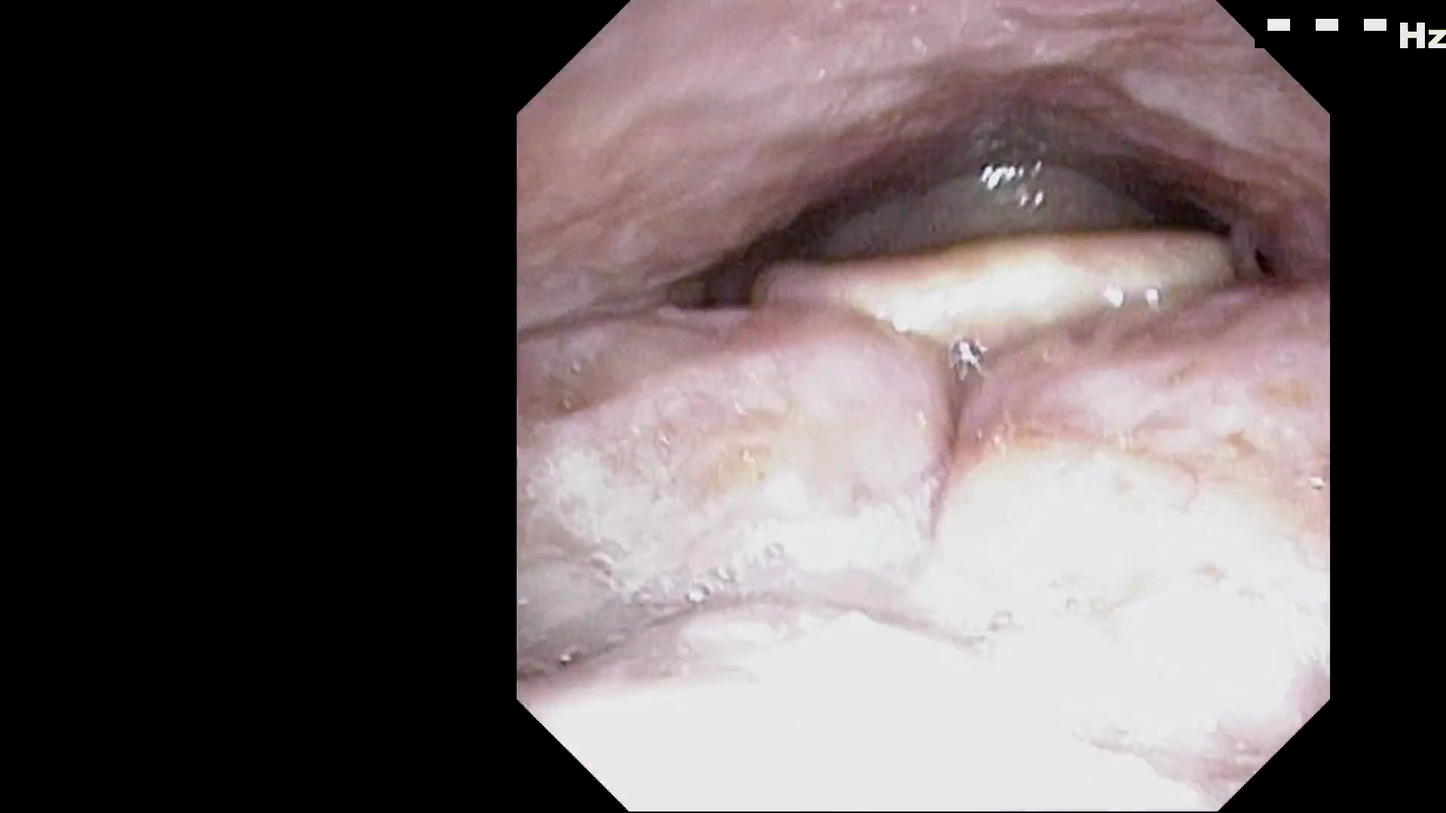epiglottis: (805, 201, 1181, 324)
